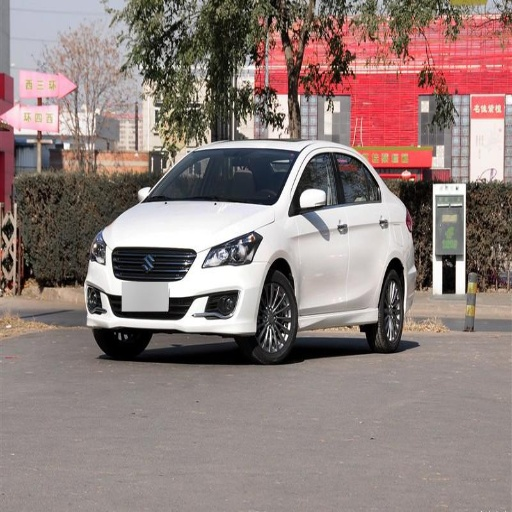front_bumper: (84, 238, 268, 335)
front_glass: (144, 152, 297, 205)
front_left_door: (292, 148, 349, 315)
